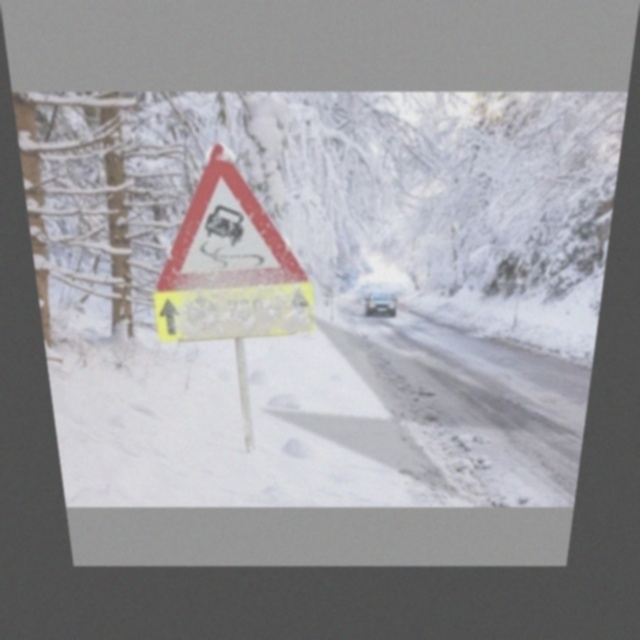Slippery_Road: (147, 136, 299, 303)
